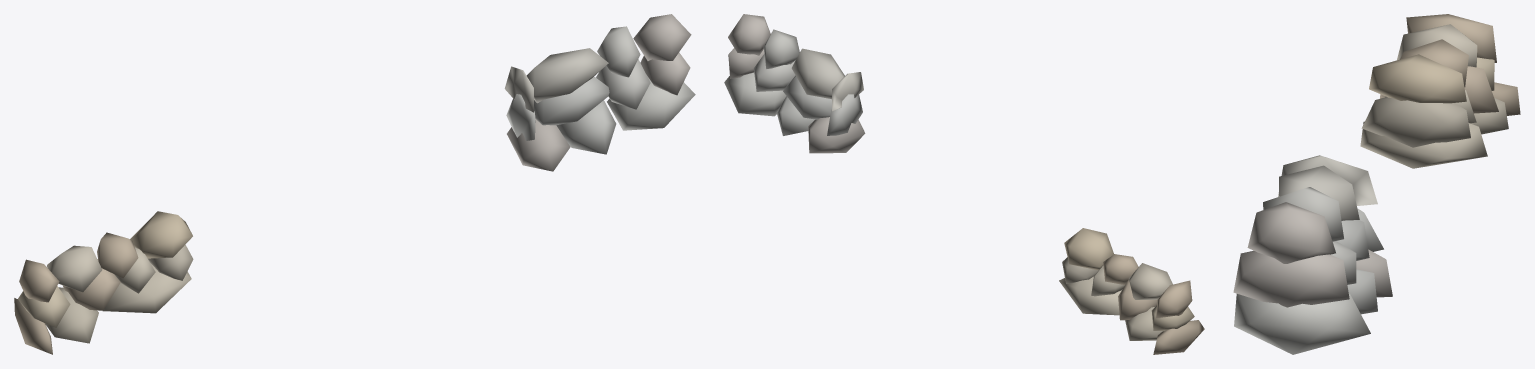
File: farm_-28_-31_near.glb
3 renders of one model, left to right at view 1: azimuth 30°, elevation 25°; view 2: azimuth 150°, elevation 25°; view 3: azimuth 270°, elevation 25°, orthographic. The views are drawn at different scales.
Visible parts, largest first — view 1: geometry_0; view 2: geometry_0; view 3: geometry_0.
Part boxes in pixels (<box>): geometry_0: <box>14,14,695,354</box>; geometry_0: <box>724,14,1204,354</box>; geometry_0: <box>1233,14,1520,354</box>.
Bounding box in the file's own units: 5.3 × 1.89 × 1.49.
